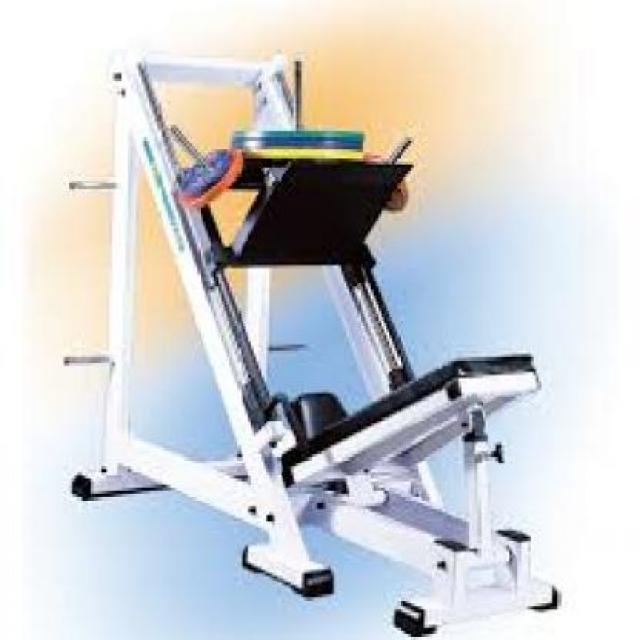leg press: (46, 34, 568, 640)
